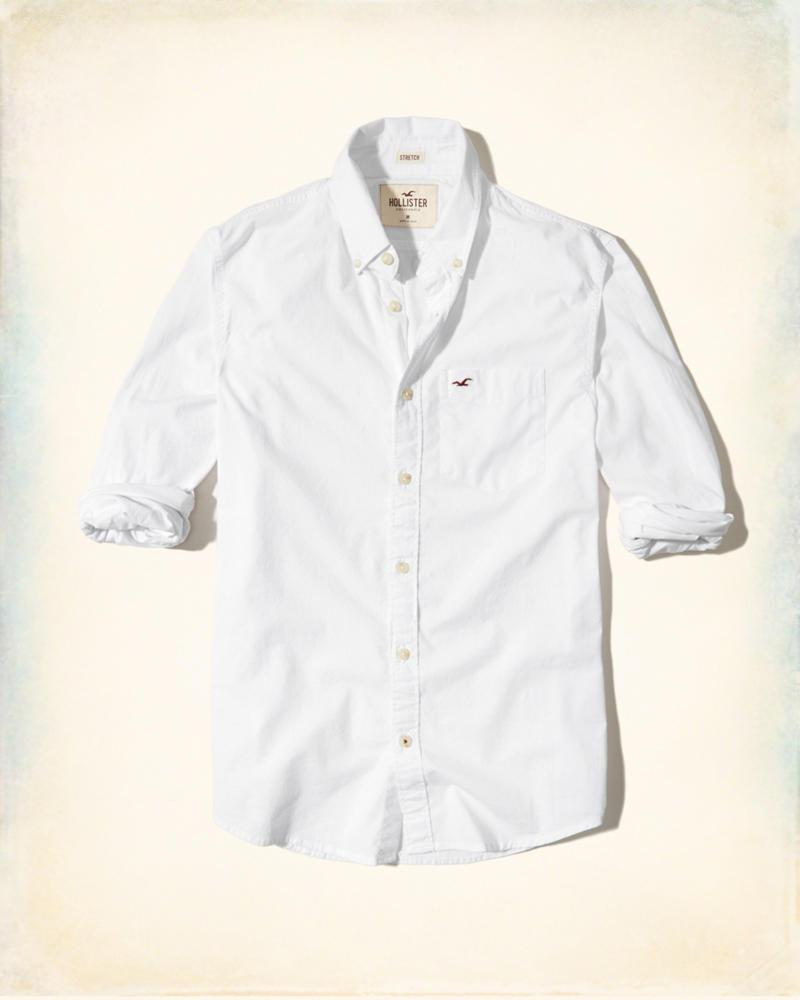teeshirt: (74, 107, 745, 872)
